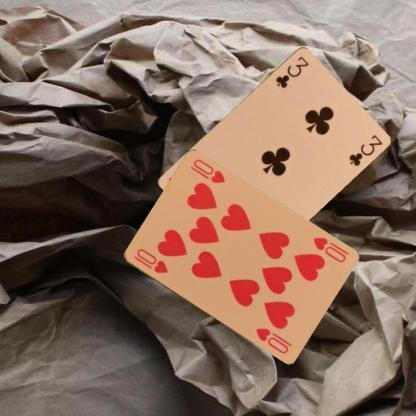10h: (130, 246, 168, 275), (310, 235, 346, 264)
3c: (273, 53, 310, 90)
